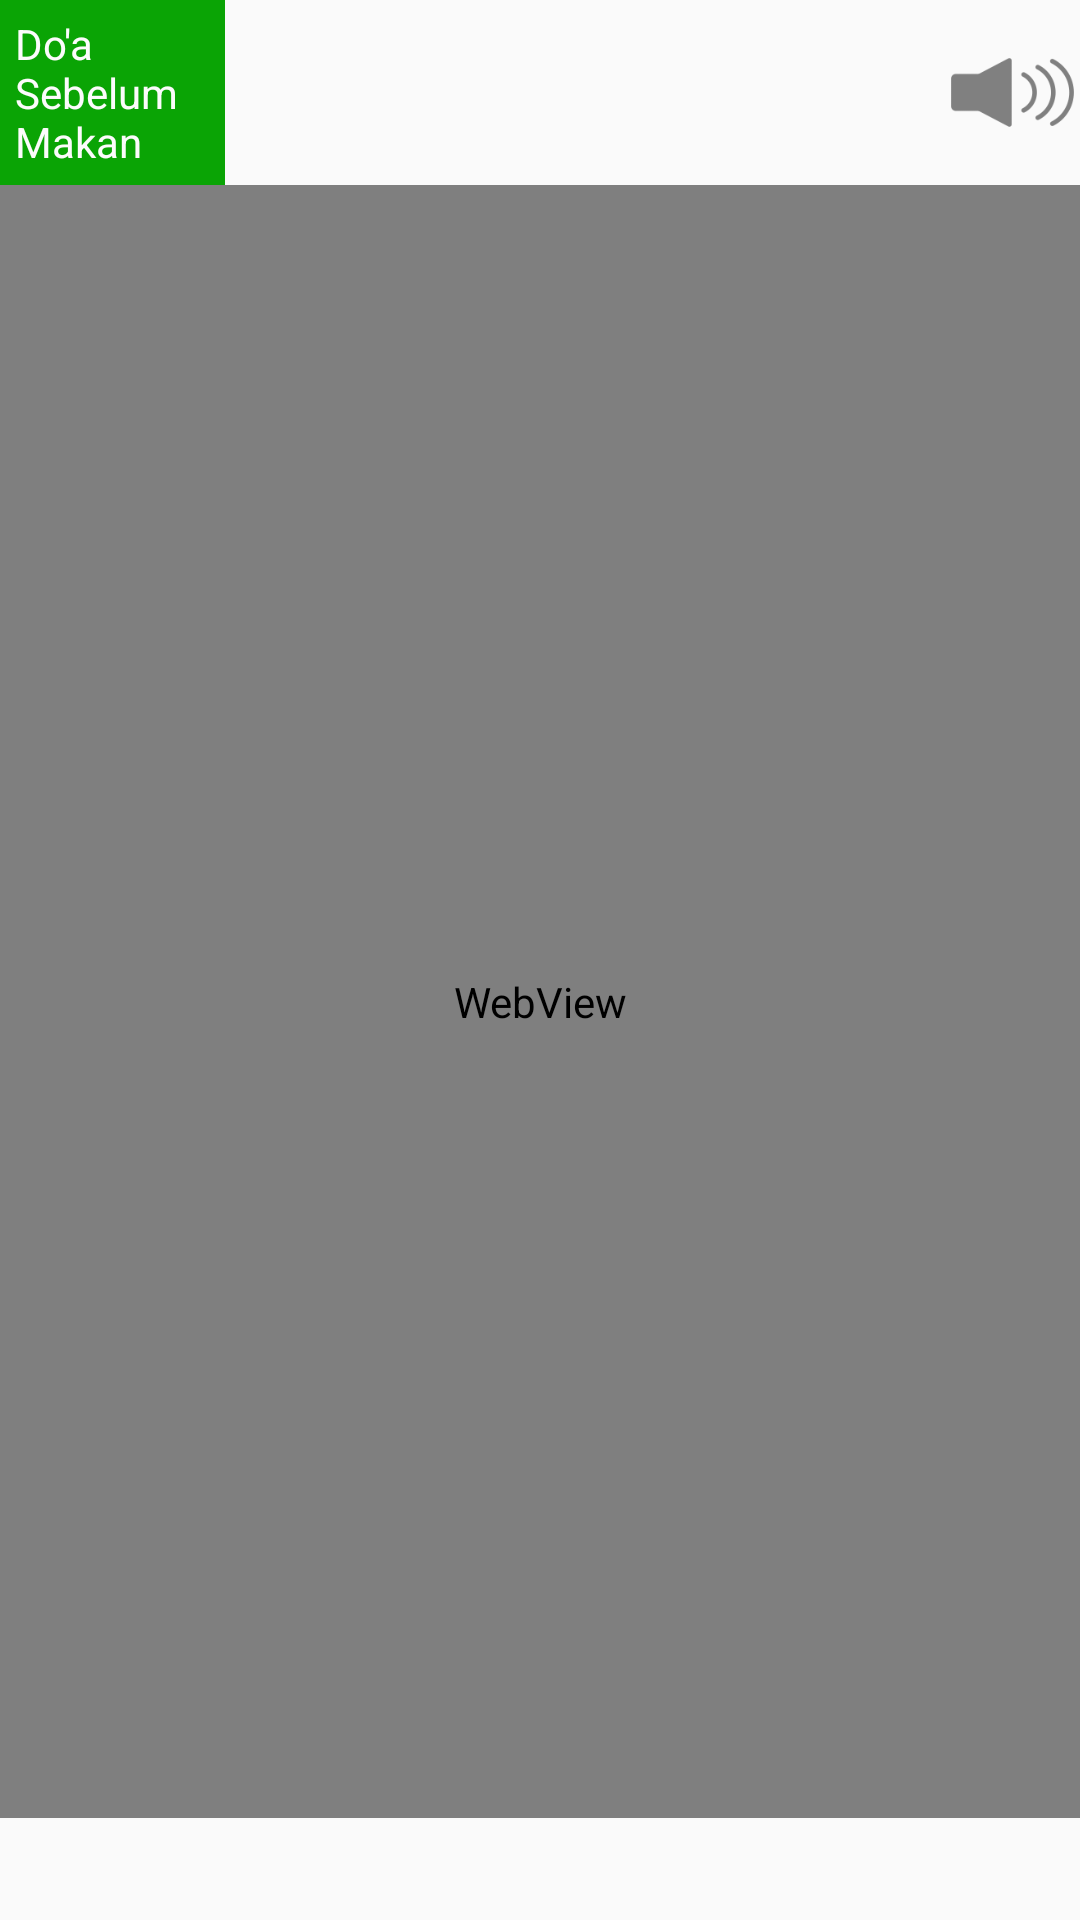

Point at icon controls on the screen. Image size 1080×1920, points as point (x, y).
speaker: point (1012, 92)
